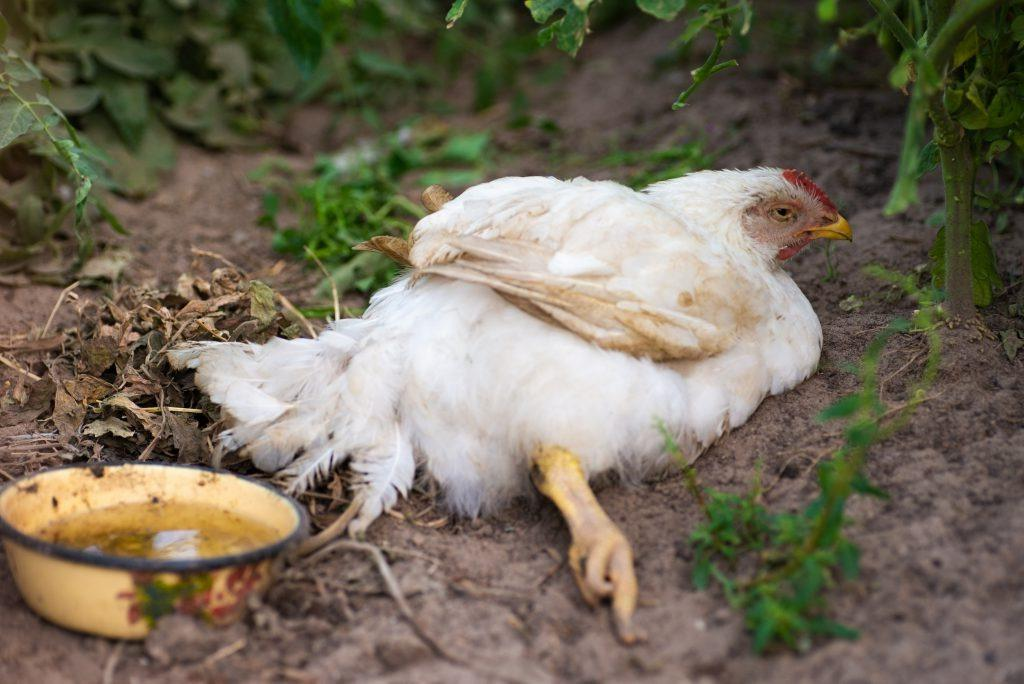AbNormal: (196, 126, 854, 626)
